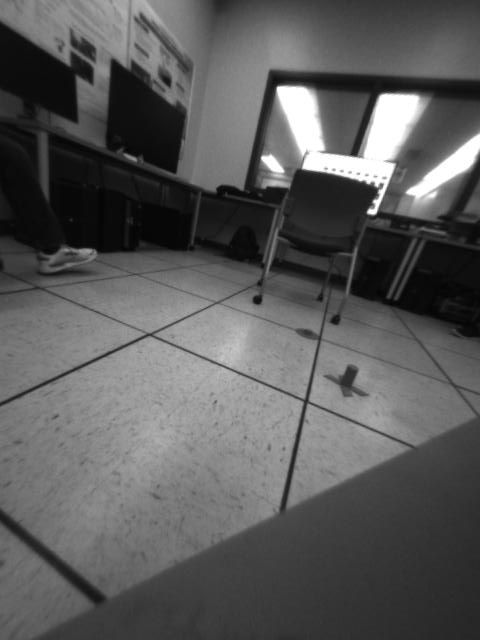X: (324, 364, 373, 399)
